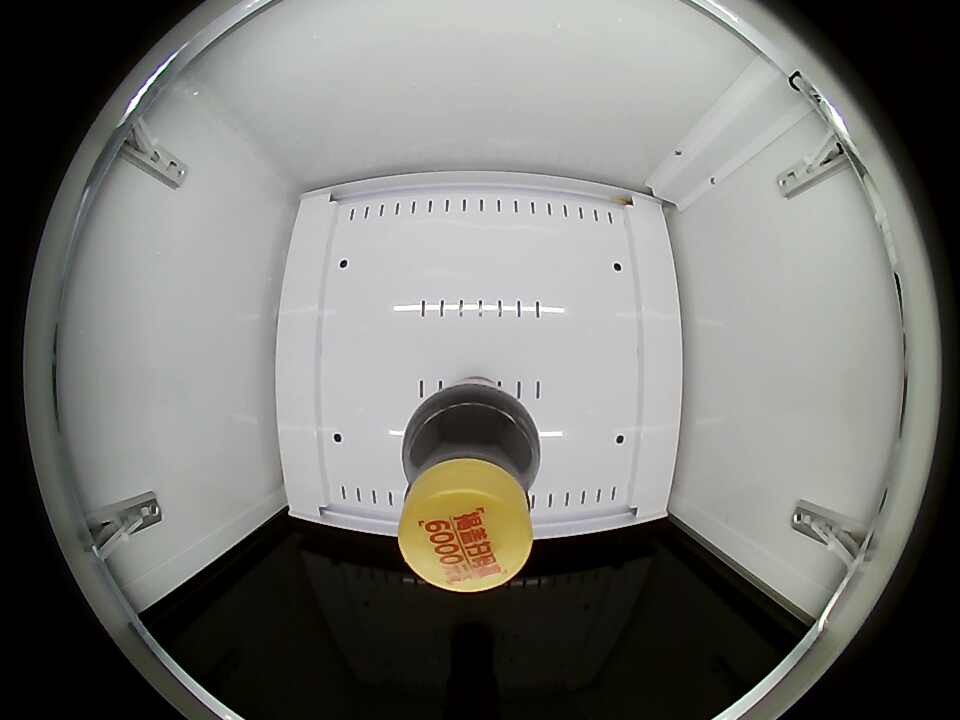kele-b-2: (397, 405, 540, 591)
